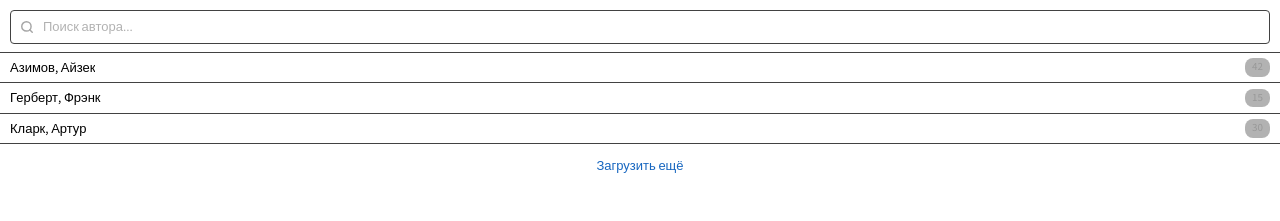
it: AuthorsTab › loads more authors appending to list
Click the button with class "authors-tab__load-more-btn": coordinates (640, 166) [584,152,696,180]
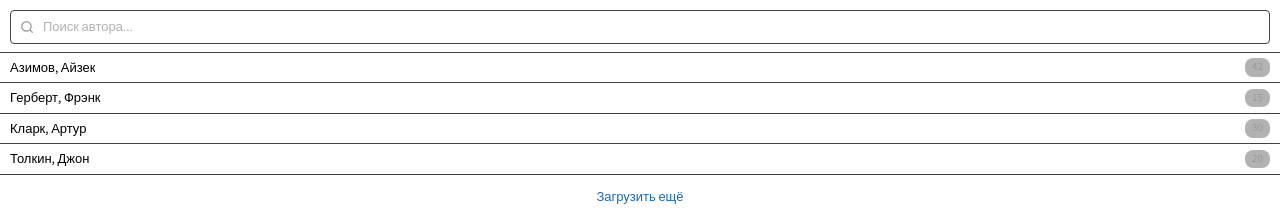
Expected: the text "Азимов, Айзек" is shown, [10,58,96,77]
Now the text "Толкин, Джон" is shown, box [10,149,89,168]
